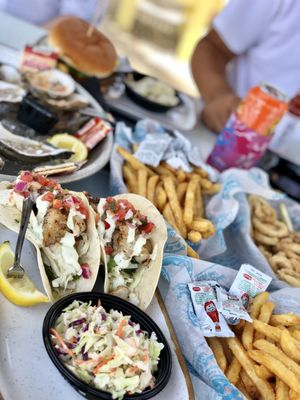sushi: (45, 292, 172, 400)
